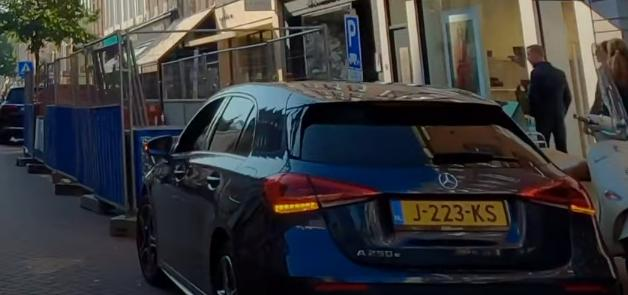license-plate: (389, 199, 514, 229)
